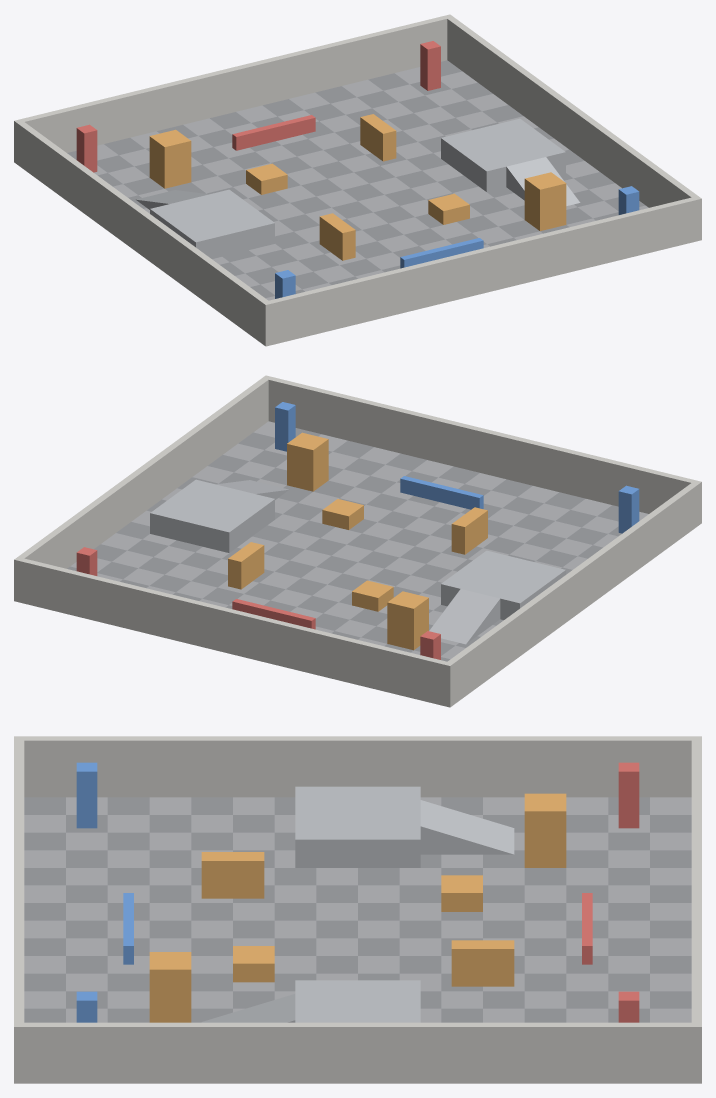
The model's file is level.glb.
The picture shows the model from 3 angles, top to bottom: view 1: azimuth 30°, elevation 25°; view 2: azimuth 150°, elevation 25°; view 3: azimuth 270°, elevation 25°; orthographic projection. The views are drawn at different scales.
Visible parts, largest first — view 1: Floor Dark, Floor Light, Wall South, Wall North, Wall West, Wall East, Platform West, Platform East, Cover Tall North, Cover Tall South, Red Wall, Cover High South (+10 smaller); view 2: Floor Dark, Floor Light, Wall North, Wall South, Wall West, Wall East, Platform East, Platform West, Ramp West, Cover Tall South, Cover Tall North, Blue Wall (+10 smaller); view 3: Floor Dark, Floor Light, Wall East, Wall West, Platform West, Platform East, Ramp West, Wall North, Wall South, Cover Tall North, Cover Tall South, Cover High North (+10 smaller).
Part boxes in pixels (x1=…): Floor Dark: x1=67, y1=60, x2=645, y2=298; Floor Light: x1=94, y1=67, x2=648, y2=300; Wall South: x1=262, y1=196, x2=701, y2=346; Wall North: x1=14, y1=14, x2=453, y2=164; Wall West: x1=17, y1=122, x2=268, y2=343; Wall East: x1=447, y1=17, x2=697, y2=207; Platform West: x1=150, y1=189, x2=274, y2=258; Platform East: x1=441, y1=118, x2=565, y2=191; Cover Tall North: x1=149, y1=129, x2=191, y2=188; Cover Tall South: x1=524, y1=172, x2=566, y2=231; Red Wall: x1=232, y1=115, x2=315, y2=150; Cover High South: x1=319, y1=213, x2=355, y2=260; Floor Dark: x1=67, y1=428, x2=621, y2=661; Floor Light: x1=70, y1=421, x2=648, y2=659; Wall North: x1=14, y1=557, x2=453, y2=707; Wall South: x1=262, y1=375, x2=701, y2=525; Wall West: x1=447, y1=483, x2=698, y2=704; Wall East: x1=18, y1=378, x2=268, y2=568; Platform East: x1=150, y1=479, x2=274, y2=552; Platform West: x1=441, y1=550, x2=565, y2=619; Ramp West: x1=429, y1=589, x2=500, y2=644; Cover Tall South: x1=287, y1=432, x2=328, y2=491; Cover Tall North: x1=387, y1=591, x2=428, y2=650; Blue Wall: x1=400, y1=476, x2=483, y2=509; Floor Dark: x1=24, y1=797, x2=691, y2=1022; Floor Light: x1=24, y1=797, x2=691, y2=1022; Wall East: x1=24, y1=1022, x2=691, y2=1083; Wall West: x1=24, y1=736, x2=691, y2=797; Platform West: x1=295, y1=786, x2=420, y2=867; Platform East: x1=295, y1=980, x2=420, y2=1022; Ramp West: x1=420, y1=800, x2=514, y2=854; Wall North: x1=691, y1=736, x2=701, y2=1083; Wall South: x1=14, y1=736, x2=24, y2=1083; Cover Tall North: x1=524, y1=793, x2=566, y2=867; Cover Tall South: x1=149, y1=952, x2=191, y2=1022; Cover High North: x1=451, y1=940, x2=514, y2=986.
Size of the model in its own units: 33 by 3 by 33.
